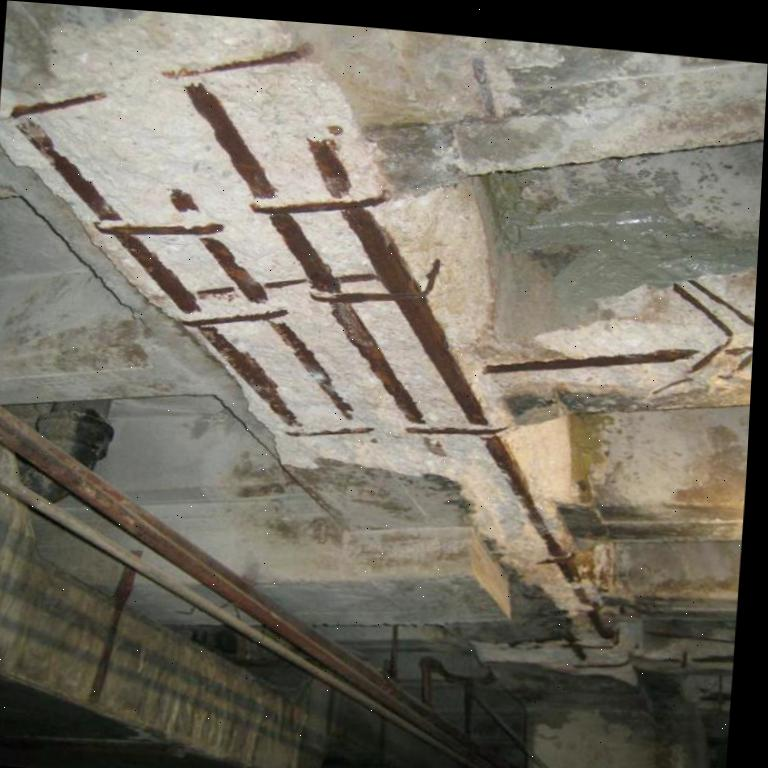exposed_rebar: (313, 200, 604, 628), (22, 129, 266, 313), (185, 308, 351, 425), (331, 302, 423, 423), (186, 82, 276, 198), (674, 283, 753, 371), (269, 214, 340, 290), (162, 42, 311, 78), (483, 348, 697, 373), (250, 190, 388, 214), (688, 280, 754, 327), (9, 91, 106, 118), (309, 141, 350, 194), (286, 428, 374, 436), (169, 189, 197, 213), (337, 272, 378, 282), (424, 438, 446, 455), (263, 280, 307, 288)
spalling: (0, 11, 757, 714)
